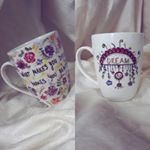cups: (1, 28, 71, 110), (75, 32, 146, 104)
